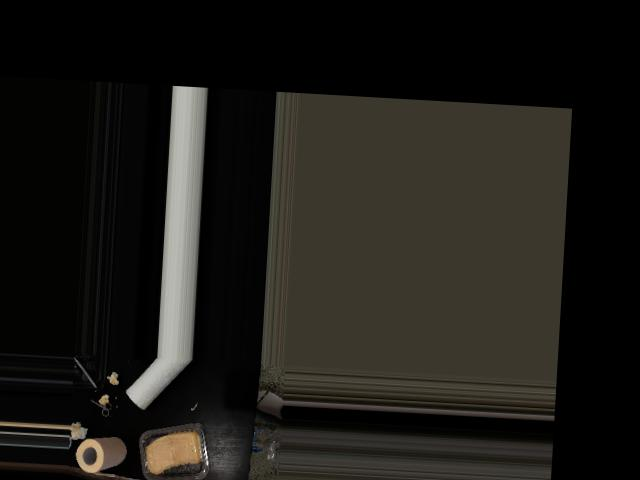cheese: (137, 422, 212, 480)
